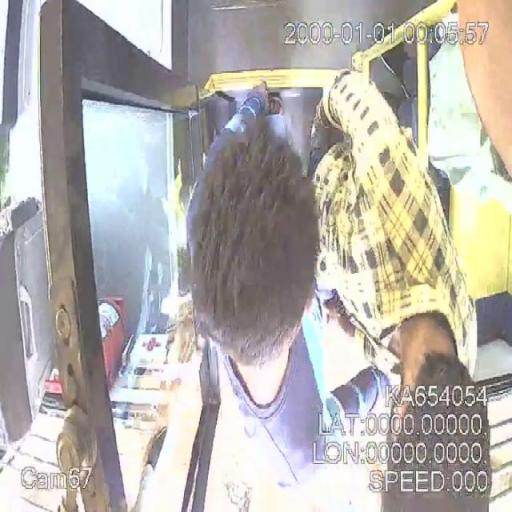persona: (137, 96, 387, 511), (309, 68, 492, 510)
